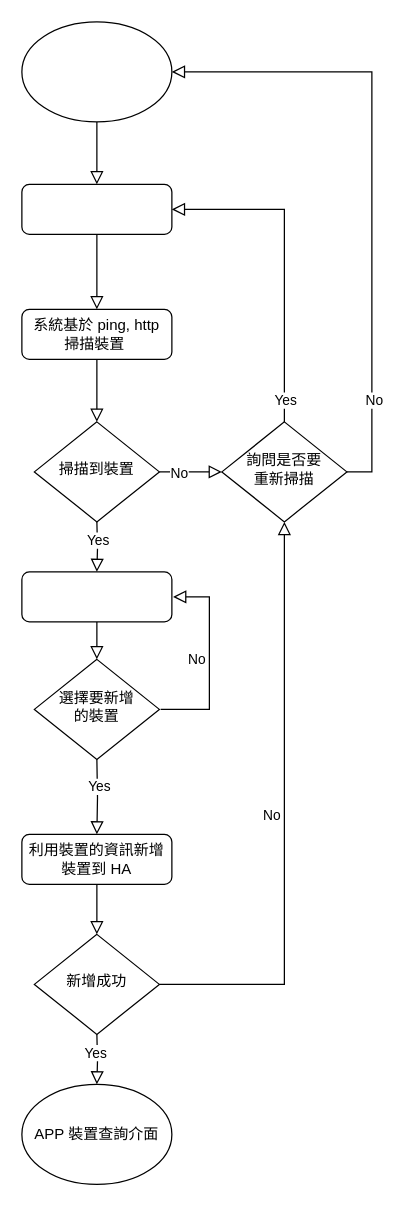
Image size: 406x1206. Some labels were removed from this diagram. Here are the shapes that lost their labels. From the top down, the centre of each, then its label:
(x=96, y=71): APP 主介面
(x=96, y=208): 點擊查詢 裝置 介面
(x=96, y=596): 顯示裝置的資訊 到 APP
